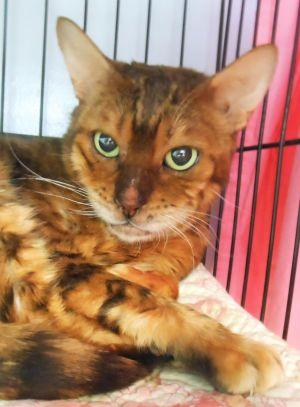bengal: (43, 2, 290, 250)
